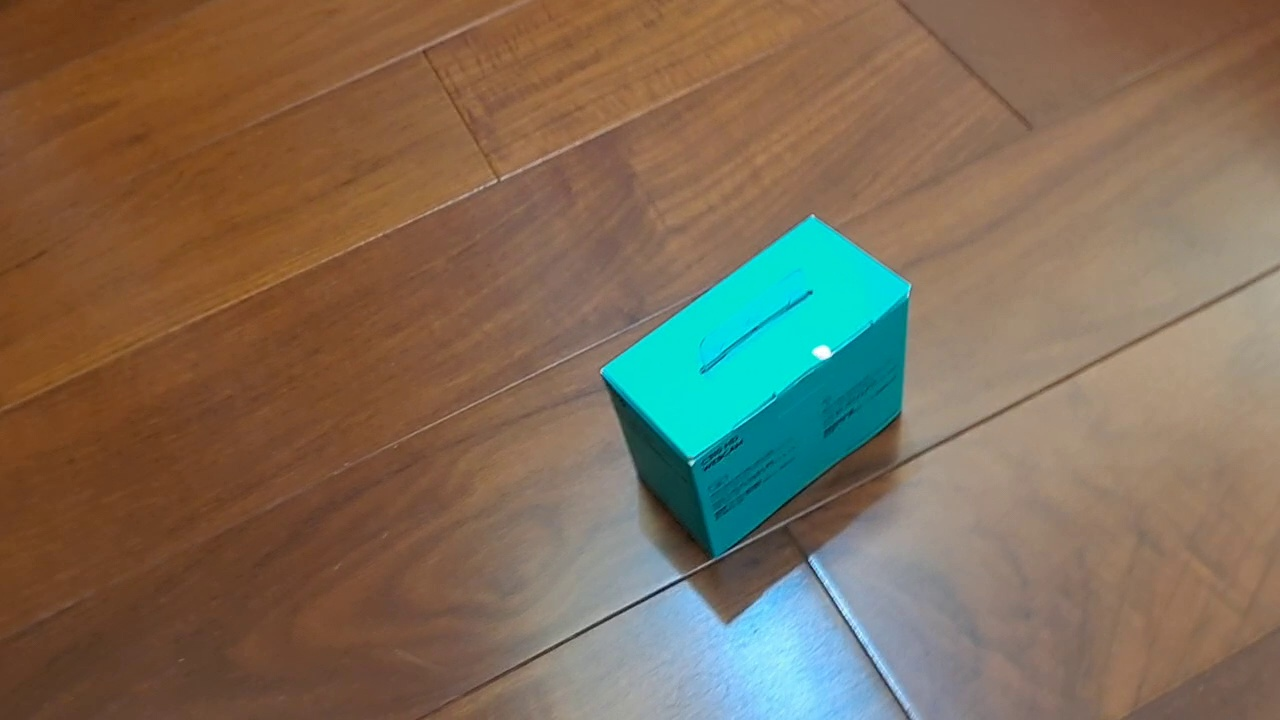webcam: (597, 211, 913, 562)
